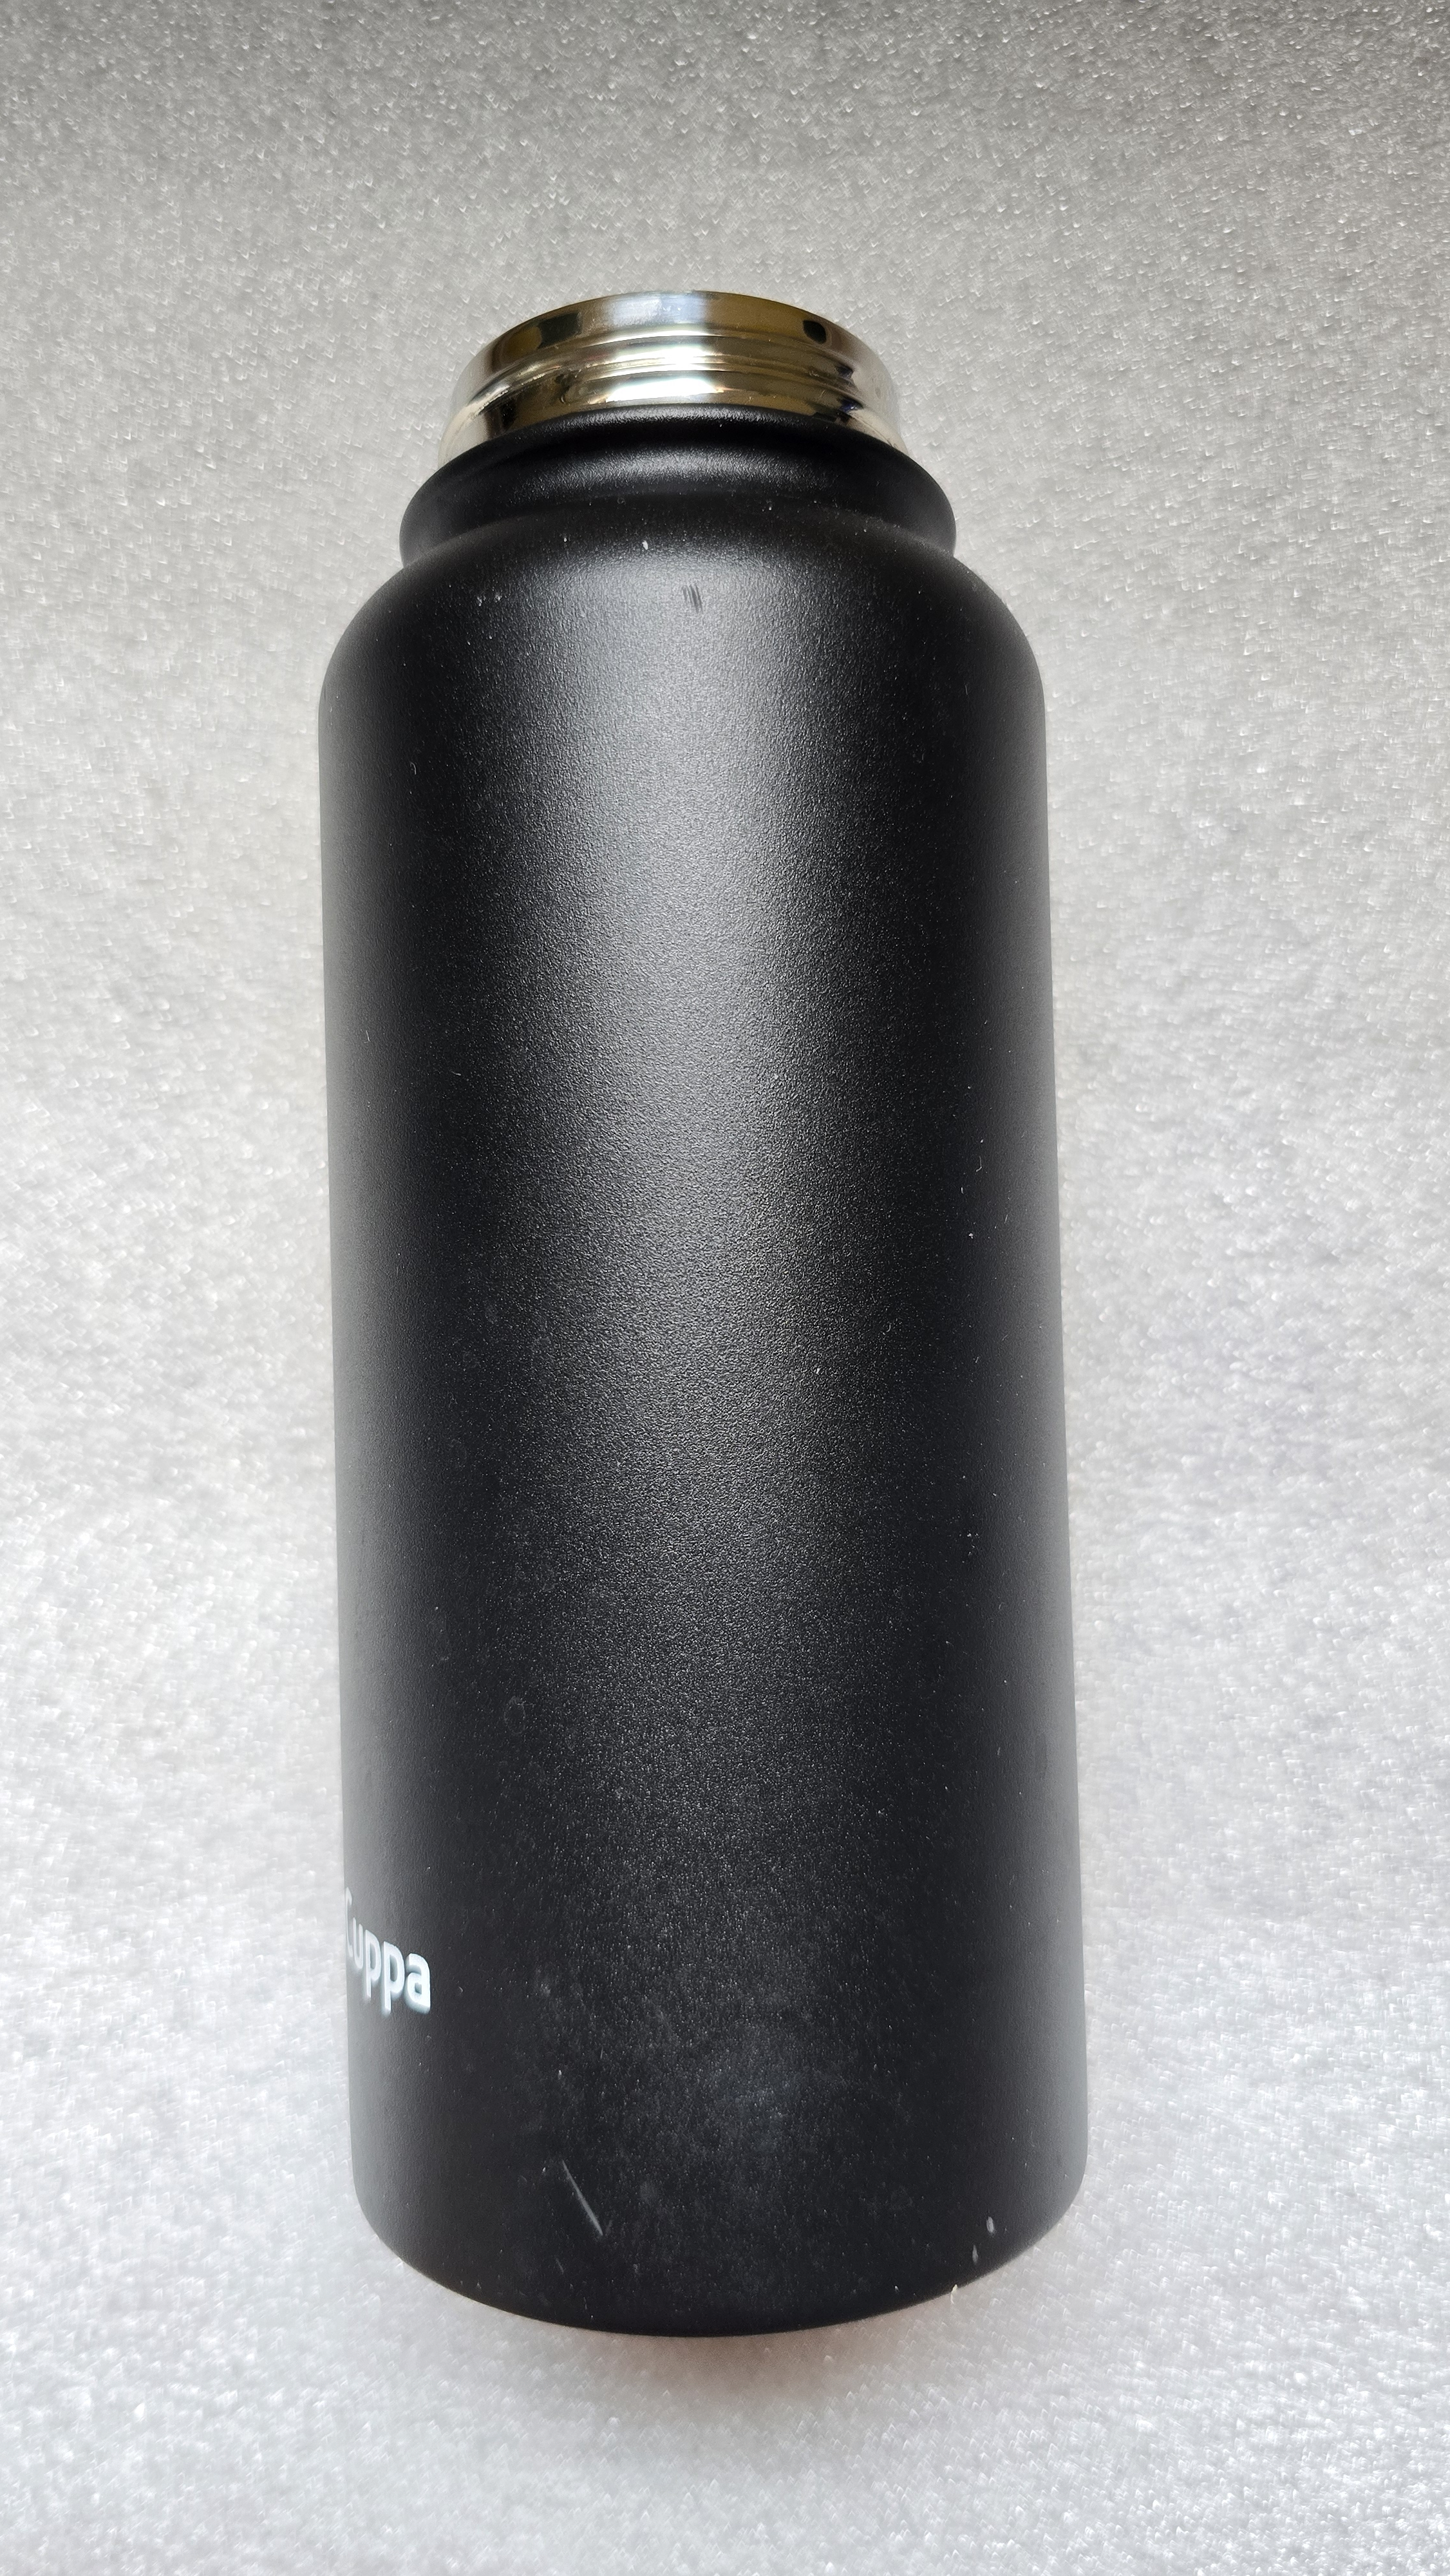bottle: (265, 274, 1204, 2342)
